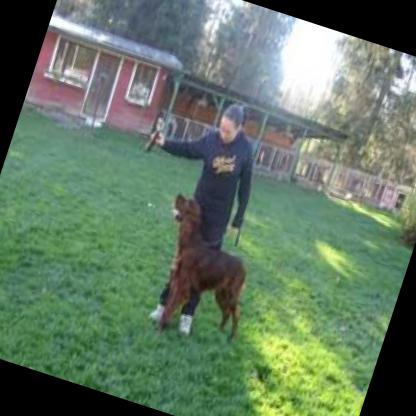Irish_setter: (133, 189, 278, 356)
